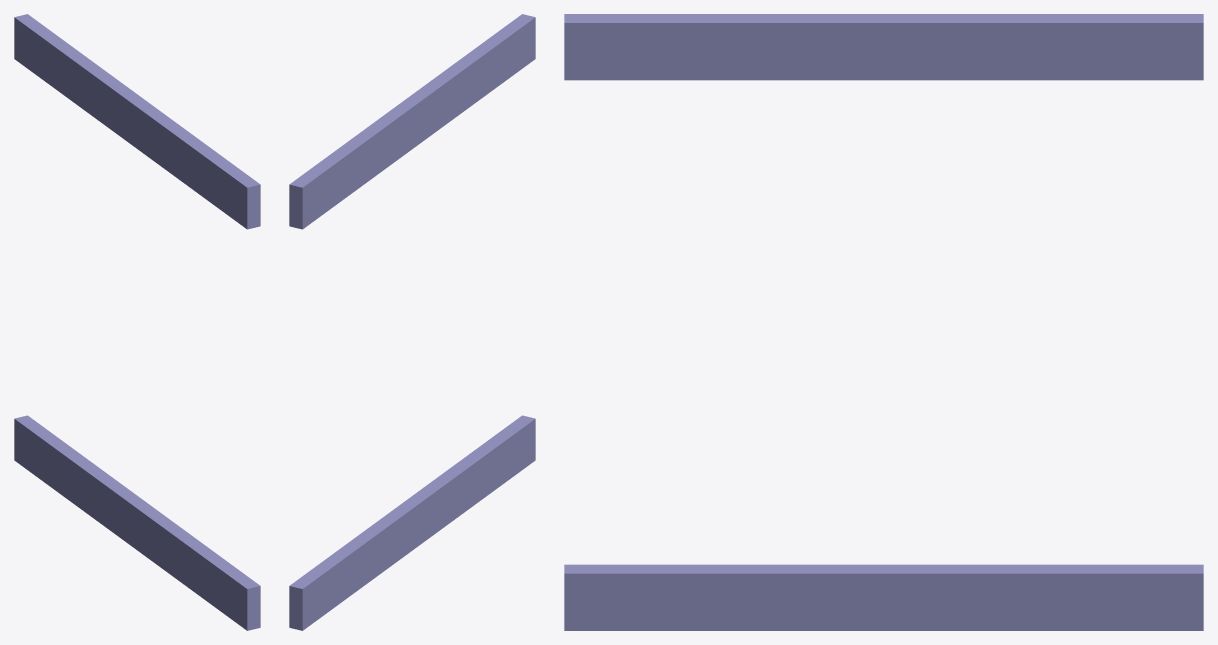
File: OPPPSupportBar.gltf
3 views of the same model, side by side, from view 1: azimuth 30°, elevation 25°; view 2: azimuth 150°, elevation 25°; view 3: azimuth 270°, elevation 25° (orthographic). The views are drawn at different scales.
Parts seen in each view (by area): view 1: logicOPPPSupportBar_pv0x22768f8, logicOPPPSupportBar_pv0x2276930; view 2: logicOPPPSupportBar_pv0x22768f8, logicOPPPSupportBar_pv0x2276930; view 3: logicOPPPSupportBar_pv0x22768f8, logicOPPPSupportBar_pv0x2276930.
Part boxes in pixels (bbox=[...]): logicOPPPSupportBar_pv0x22768f8: bbox=[14, 14, 260, 229]; logicOPPPSupportBar_pv0x2276930: bbox=[14, 415, 260, 630]; logicOPPPSupportBar_pv0x22768f8: bbox=[289, 14, 535, 229]; logicOPPPSupportBar_pv0x2276930: bbox=[289, 415, 535, 630]; logicOPPPSupportBar_pv0x22768f8: bbox=[564, 14, 1203, 80]; logicOPPPSupportBar_pv0x2276930: bbox=[564, 564, 1203, 630].
Size of the model in its own units: 1 by 31.8 by 30.3.
